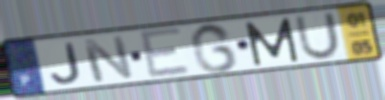E: (137, 26, 193, 82)
G: (188, 21, 240, 74)
J: (49, 41, 83, 85)
M: (242, 16, 302, 68)
N: (79, 34, 137, 84)
U: (293, 11, 343, 62)
